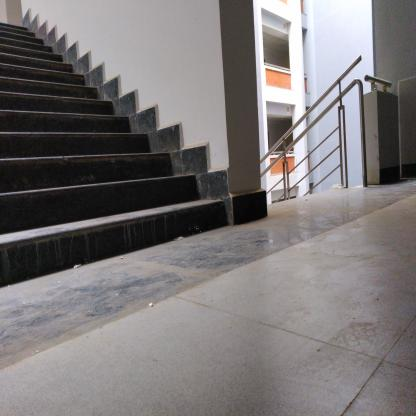stairs: (3, 23, 36, 297)
